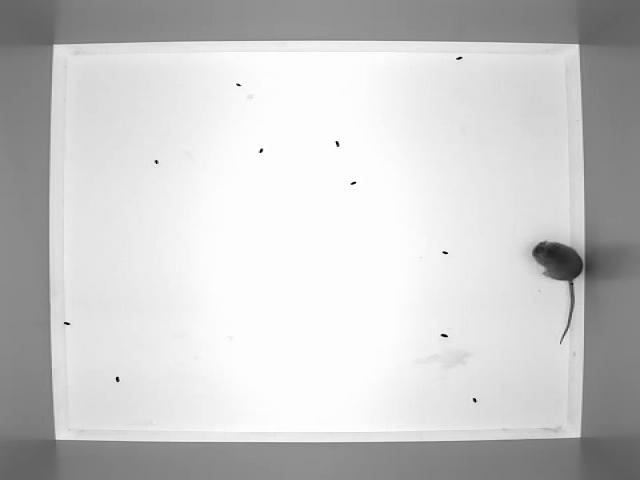Tikus: (529, 237, 584, 348)
